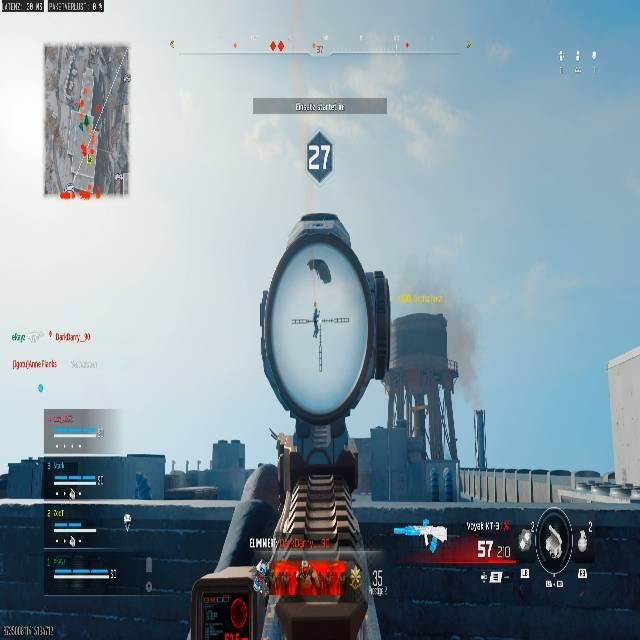player: (133, 472, 152, 500)
